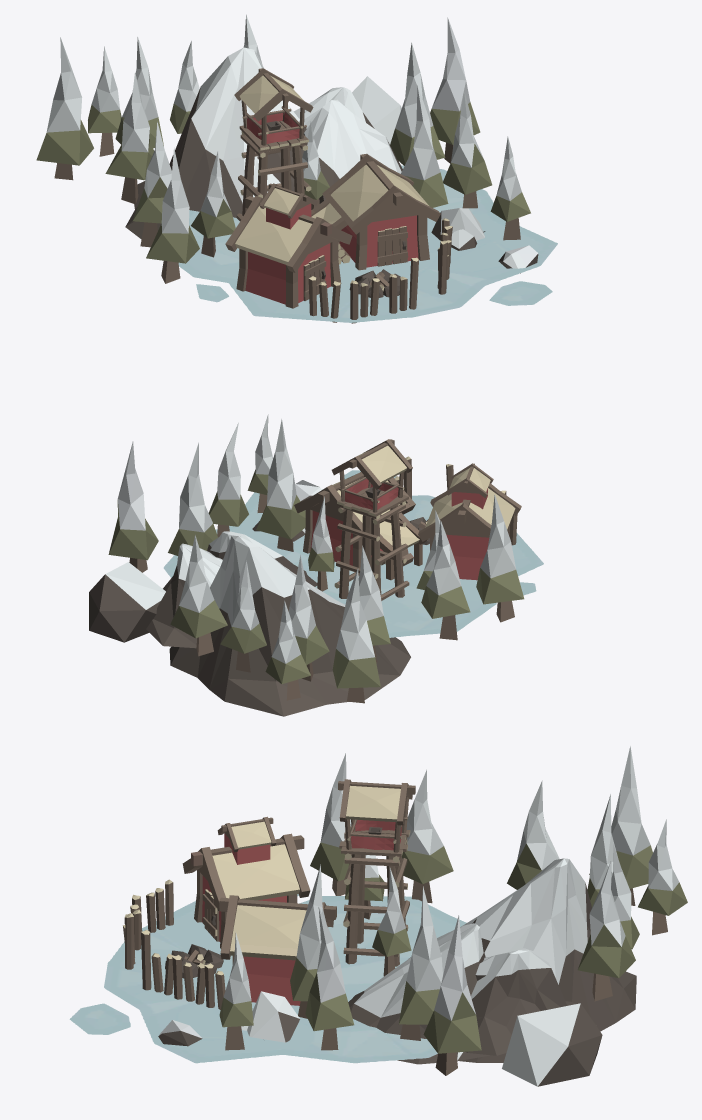
File: townTundra02.fbx
The picture shows the model from 3 angles, top to bottom: view 1: azimuth 30°, elevation 25°; view 2: azimuth 150°, elevation 25°; view 3: azimuth 270°, elevation 25°; orthographic projection. The views are drawn at different scales.
Visible parts, largest first — view 1: townTundra02, groundDecal; view 2: townTundra02, groundDecal; view 3: townTundra02, groundDecal.
Part boxes in pixels (x1,y1,x2,y2): townTundra02: [36, 14, 538, 323]; groundDecal: [178, 165, 557, 322]; townTundra02: [89, 414, 524, 716]; groundDecal: [163, 470, 543, 637]; townTundra02: [123, 746, 687, 1086]; groundDecal: [69, 894, 466, 1063].
Bounding box in the file's own units: 7.44 × 2.87 × 8.41.
